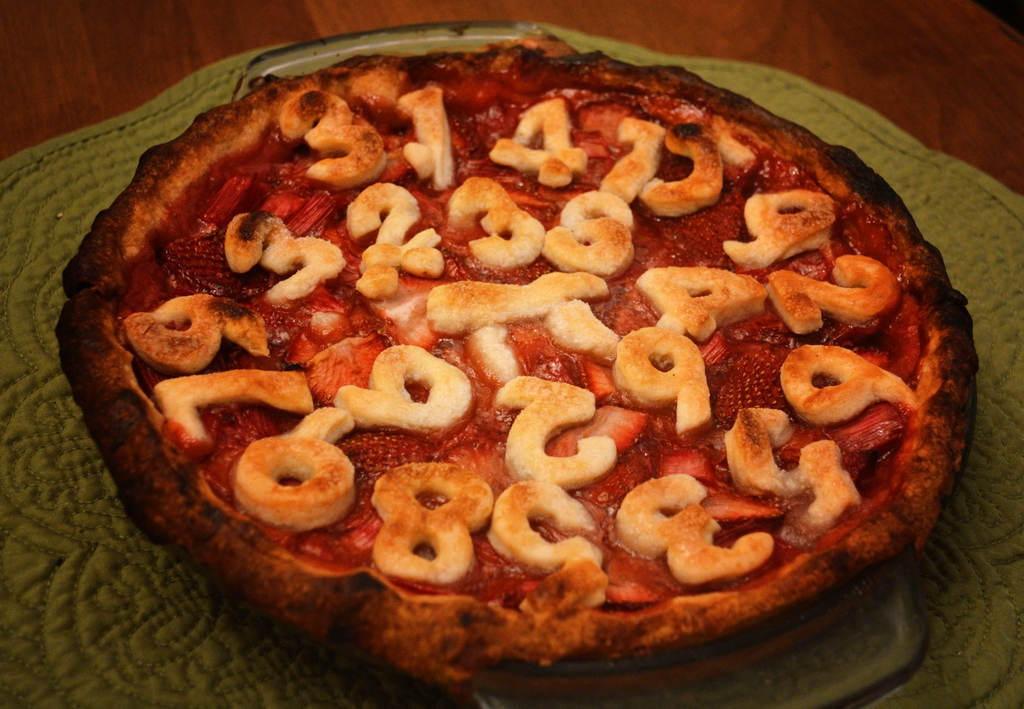Pizza: (53, 28, 980, 685)
